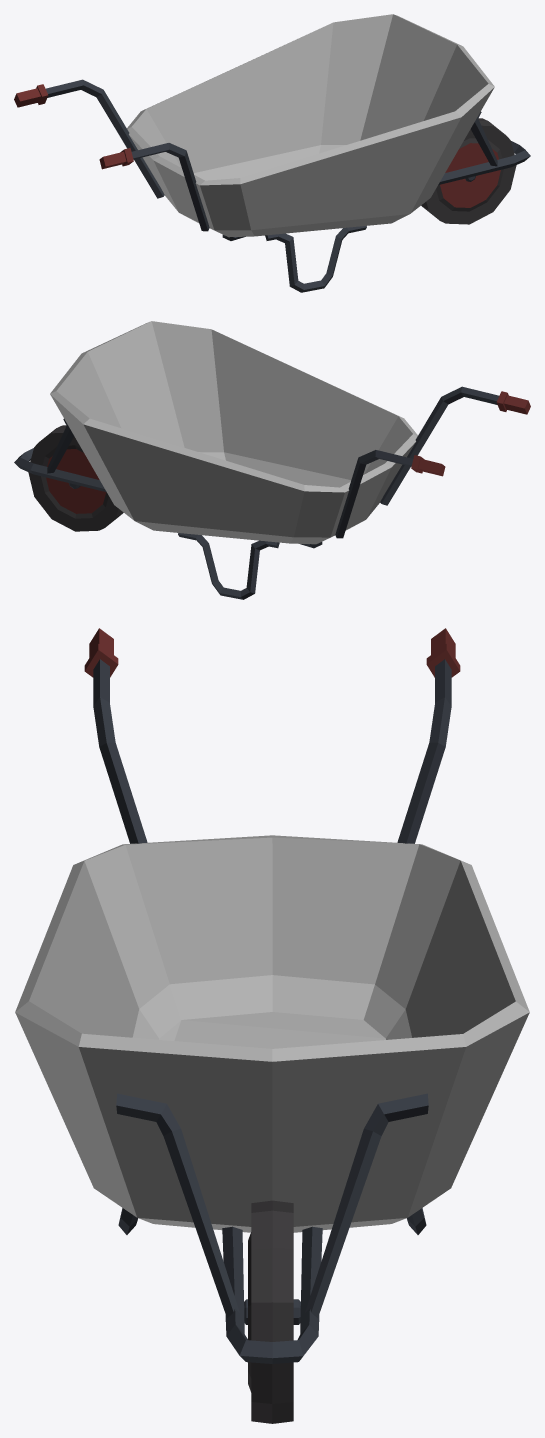
Rendered from SM_wheelbarrow.gltf.
3 views of the same model, one above another, from view 1: azimuth 30°, elevation 25°; view 2: azimuth 150°, elevation 25°; view 3: azimuth 270°, elevation 25° (orthographic). The views are drawn at different scales.
Visible parts, largest first — view 1: SM_wheelbarrow; view 2: SM_wheelbarrow; view 3: SM_wheelbarrow.
Boxes of the visible parts, x1,y1,x2,y2 form: SM_wheelbarrow: (14, 14, 530, 292); SM_wheelbarrow: (14, 321, 530, 599); SM_wheelbarrow: (15, 628, 529, 1423).
Size of the model in its own units: 2.01 by 0.8164 by 0.962.
1 material, 1 textured.
